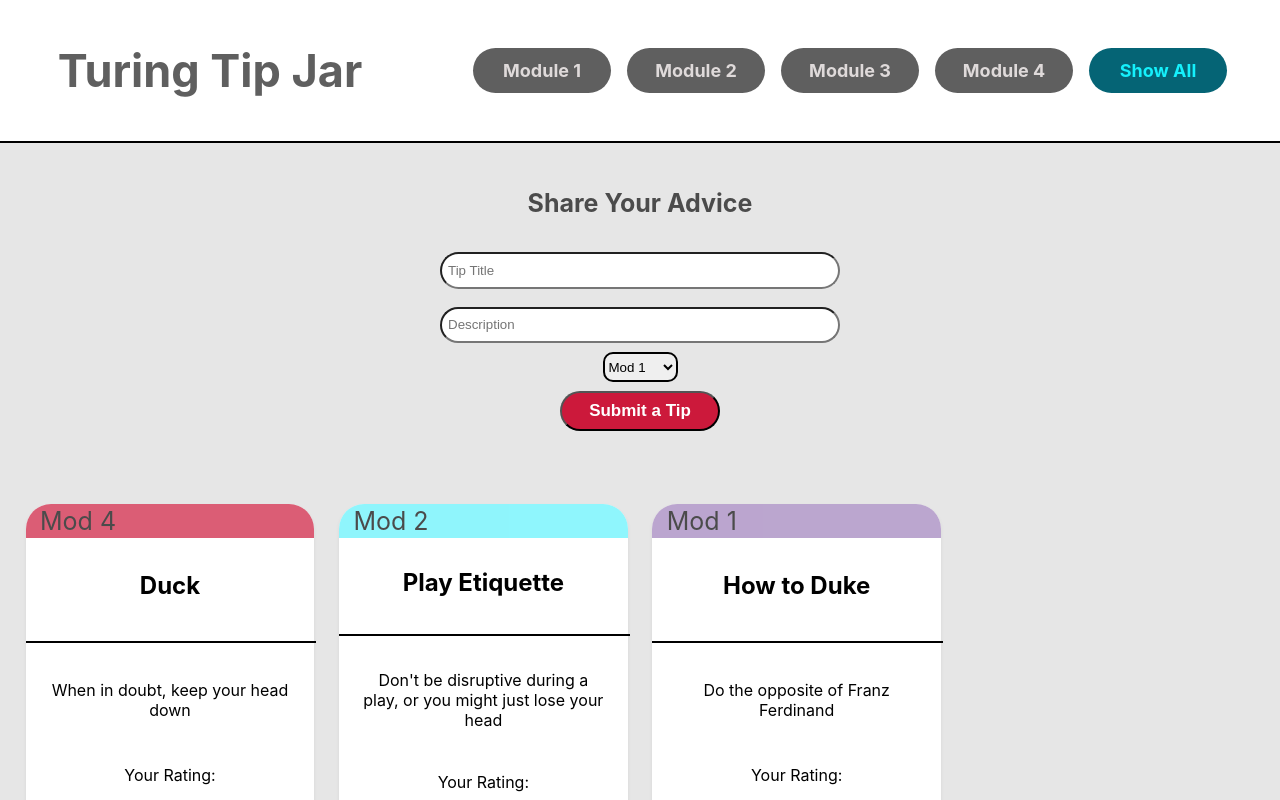
Home Page › Should show an error message if all inputs are not filled out
The image size is (1280, 800).
Step 1. Click the button with class "new-tip-button" → (640, 411), box 560,391 -> 720,431
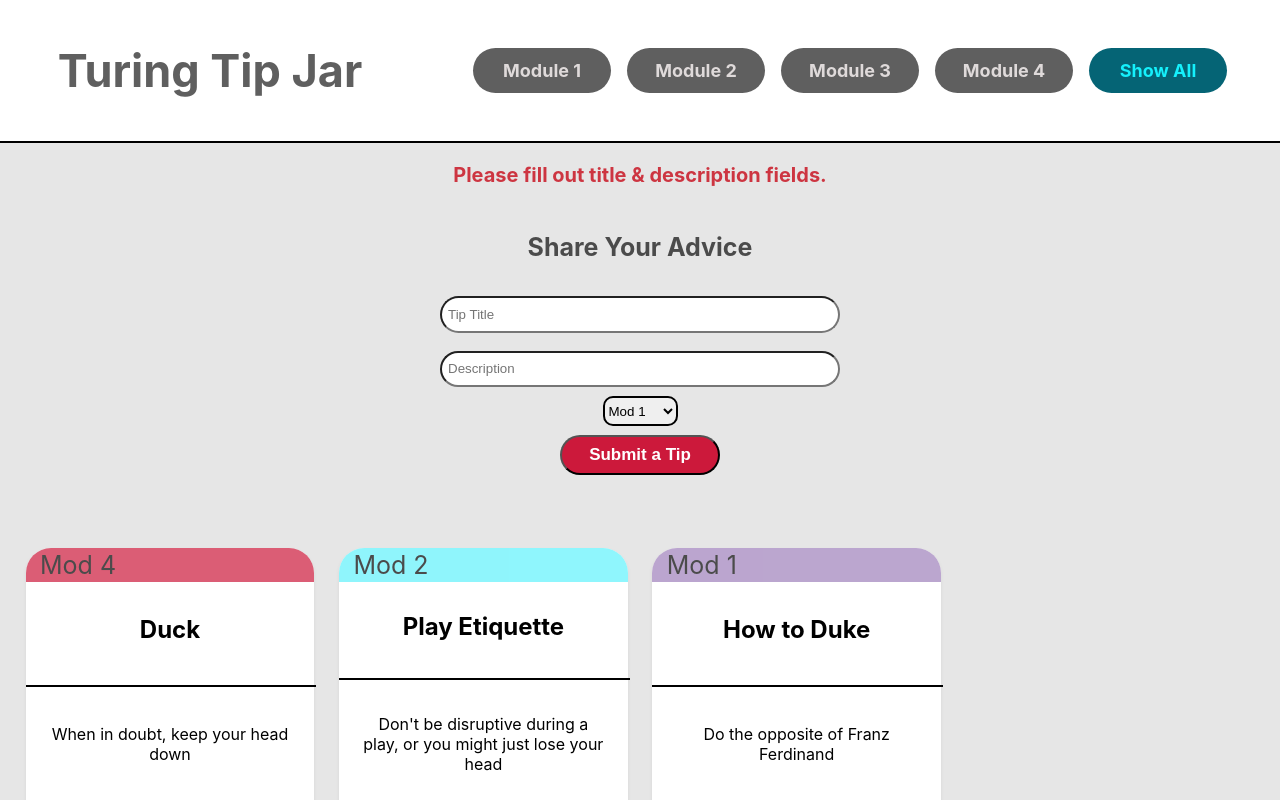
Now the text "Please fill out title & description fields." is shown, box 453,163 -> 827,187
